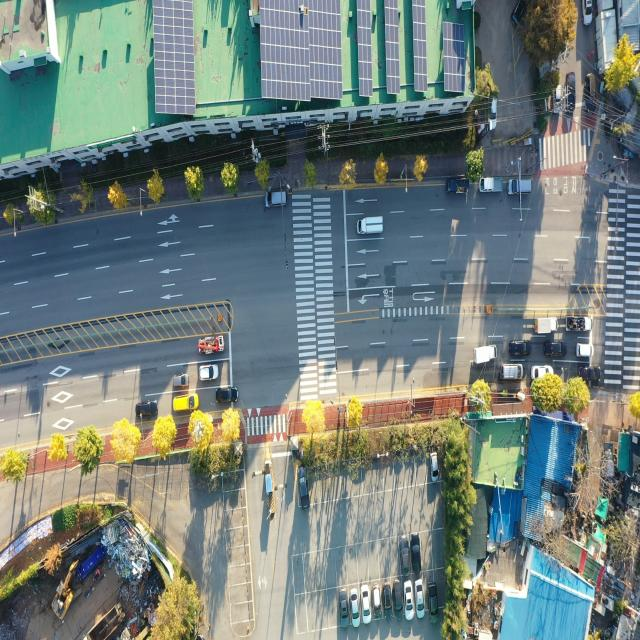car: (135, 398, 160, 420), (577, 366, 603, 387), (297, 469, 308, 510), (506, 182, 532, 198), (176, 397, 201, 413), (266, 189, 288, 207), (489, 94, 499, 132), (429, 580, 438, 622), (412, 535, 422, 572), (566, 74, 575, 114), (216, 388, 238, 403), (500, 364, 522, 379), (399, 538, 408, 574), (394, 580, 402, 620), (341, 594, 350, 628), (200, 364, 219, 380), (362, 585, 370, 623), (406, 580, 414, 617), (546, 344, 566, 358), (511, 343, 530, 357), (513, 0, 524, 24), (532, 365, 550, 379), (351, 589, 358, 625), (417, 582, 424, 618), (384, 585, 392, 615), (585, 0, 593, 27), (372, 584, 379, 614), (555, 86, 563, 112), (172, 376, 188, 388), (431, 452, 437, 482)
medium_truck: (77, 597, 128, 640)
small_truck: (534, 314, 558, 336), (356, 216, 383, 235), (564, 318, 592, 336), (474, 345, 498, 366), (200, 335, 227, 353), (481, 180, 505, 197), (446, 178, 469, 195), (585, 73, 594, 114), (577, 344, 594, 358)
